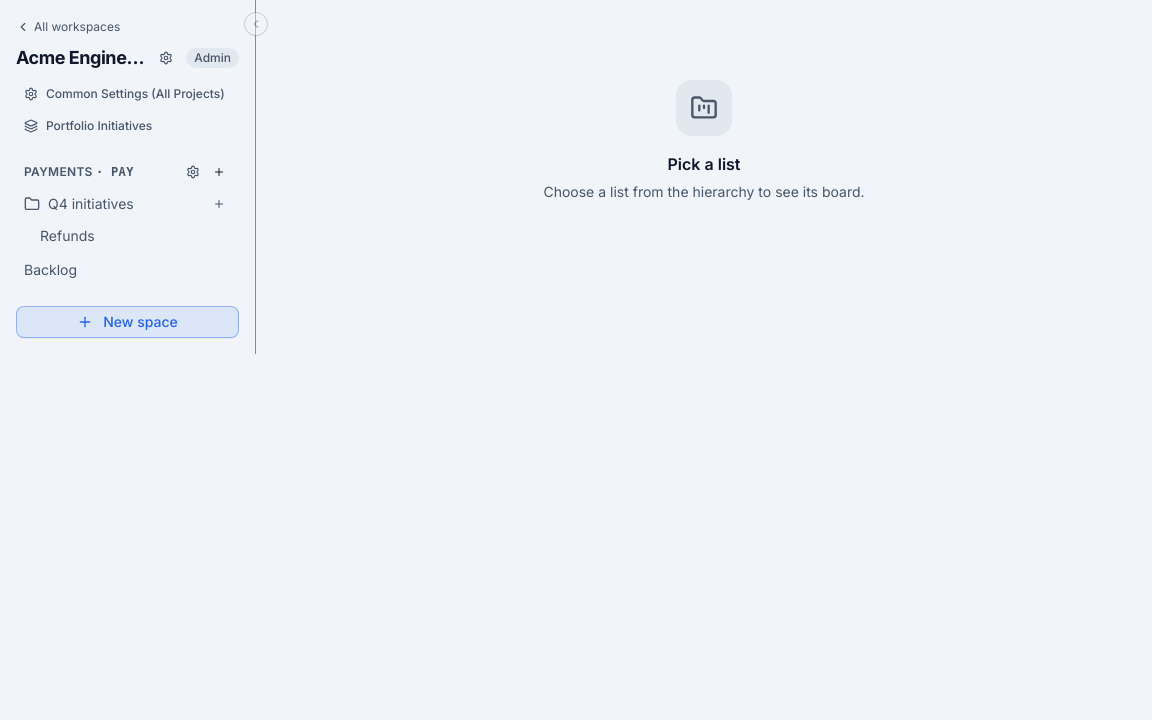
Test: <Workspace> › lets an admin create a space, then reads the tree again to show it
Expected: the heading "Acme Engineering" is shown, [16,44,148,72]
Click the button "New space": (128,322) [16,306,239,338]
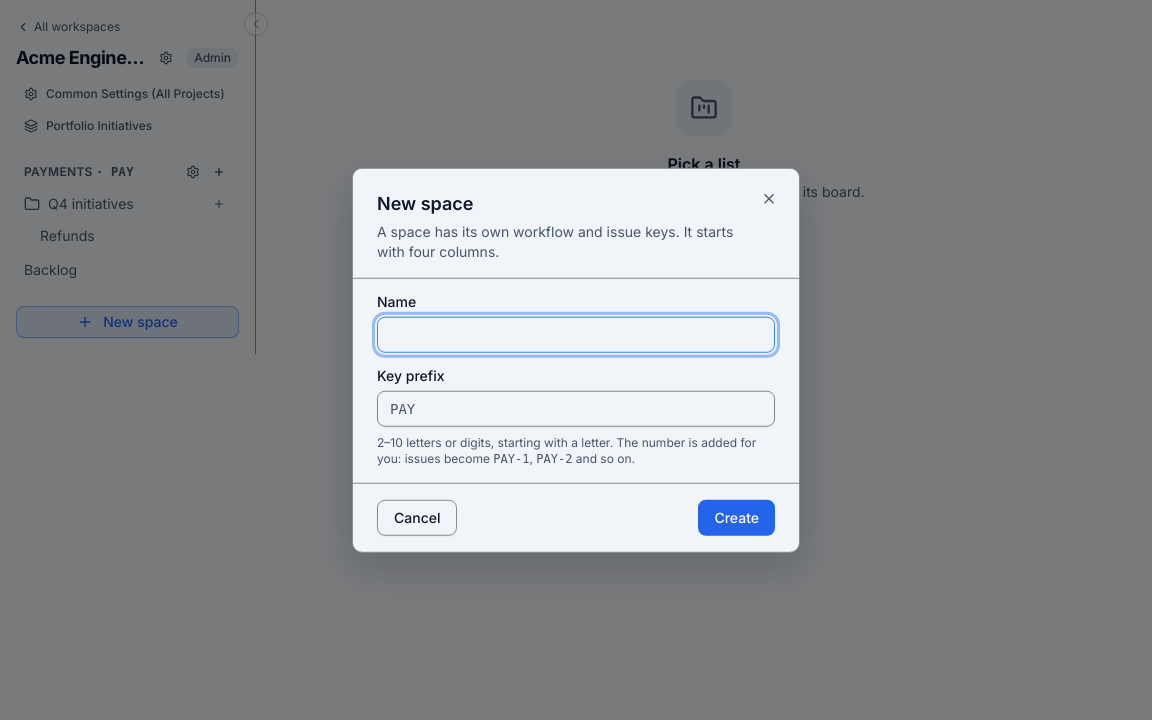
In the field labelled "Name": (576,334) [377,316,775,352], type "Ops"
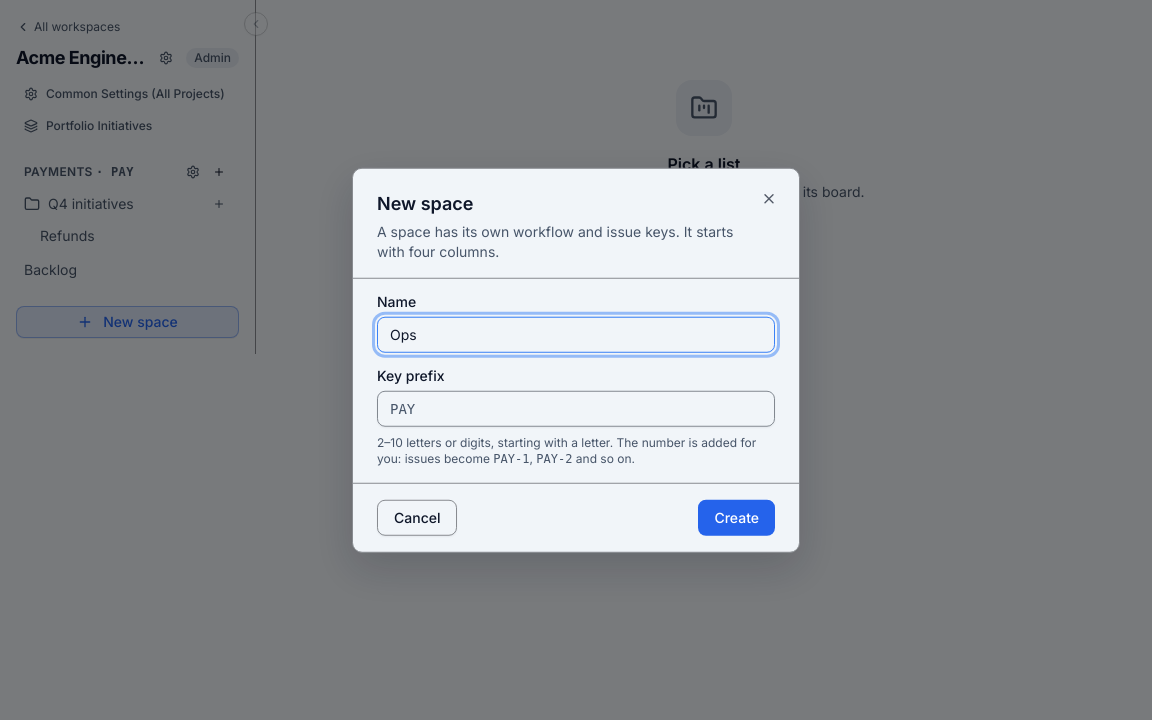
# Upper-cased as typed, since the API accepts nothing else.
In the field labelled "Key prefix": (576,408) [377,390,775,426], type "ops"
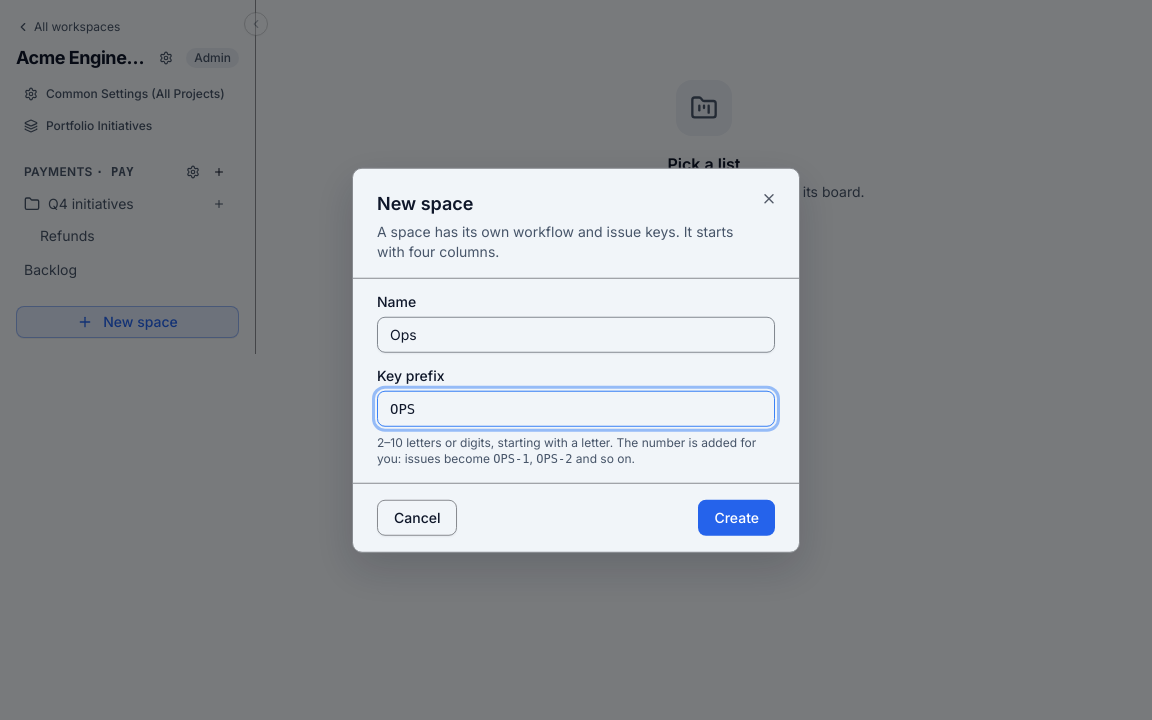
Click the button "Create": (737,517) [698,499,775,535]
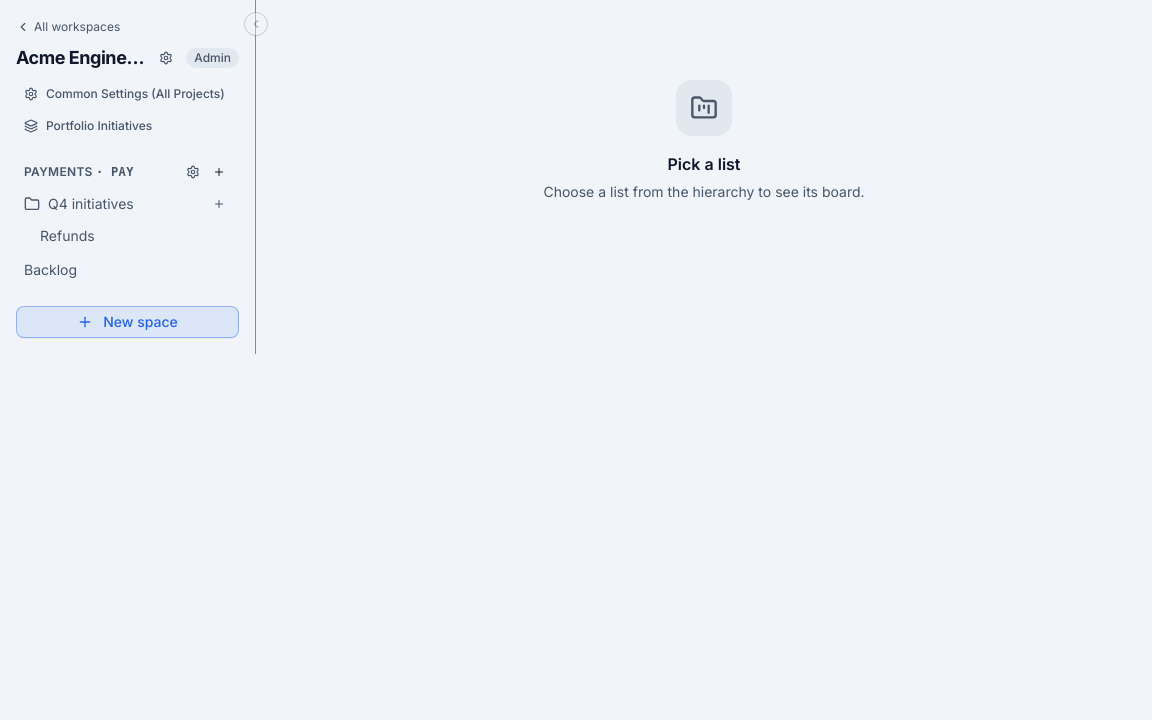
Expected: the dialog is gone
